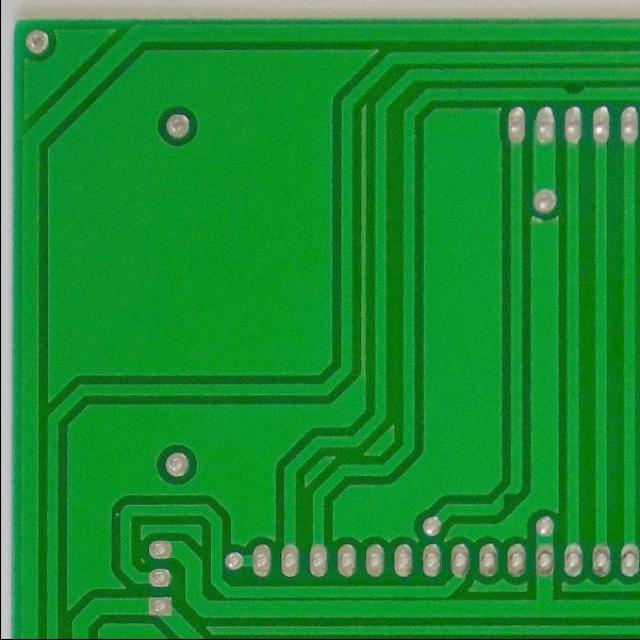mouse_bite: (491, 484, 522, 516), (553, 83, 590, 102)
